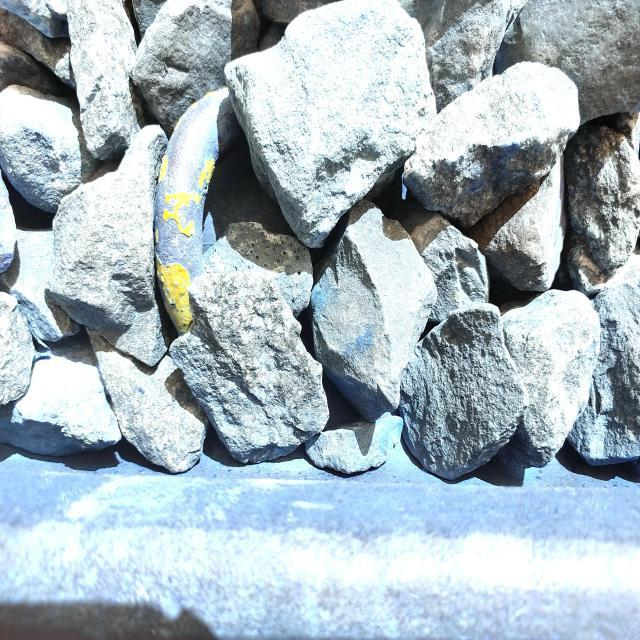Good Fasteners: (154, 89, 226, 330)
